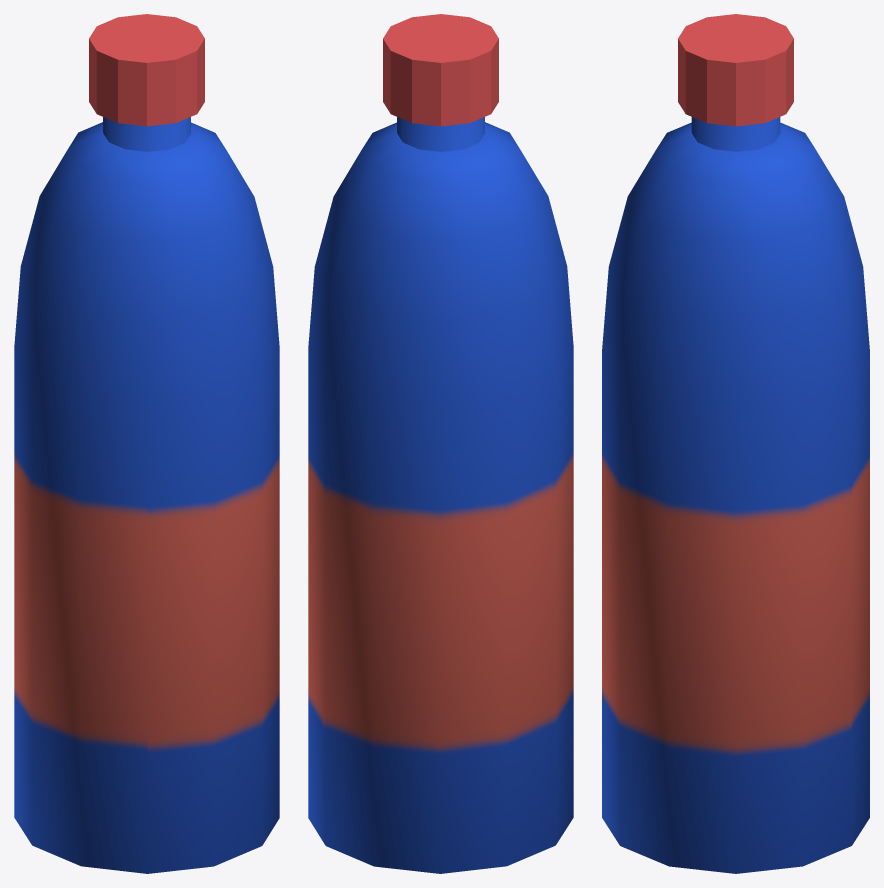
Rendered from bottle.glb.
3 views of the same model, side by side, from view 1: azimuth 30°, elevation 25°; view 2: azimuth 150°, elevation 25°; view 3: azimuth 270°, elevation 25° (orthographic).
Visible parts, largest first — view 1: Cilindro, Circle; view 2: Cilindro, Circle; view 3: Cilindro, Circle.
Part boxes in pixels (left/top/right/bottom): Cilindro: left=14, top=117, right=279, bottom=873; Circle: left=89, top=14, right=204, bottom=126; Cilindro: left=308, top=117, right=573, bottom=873; Circle: left=383, top=14, right=498, bottom=126; Cilindro: left=602, top=117, right=869, bottom=873; Circle: left=678, top=14, right=793, bottom=126.
Bounding box in the file's own units: 0.8498 × 2.76 × 0.858.
Materials: 2 (1 with a texture image).
